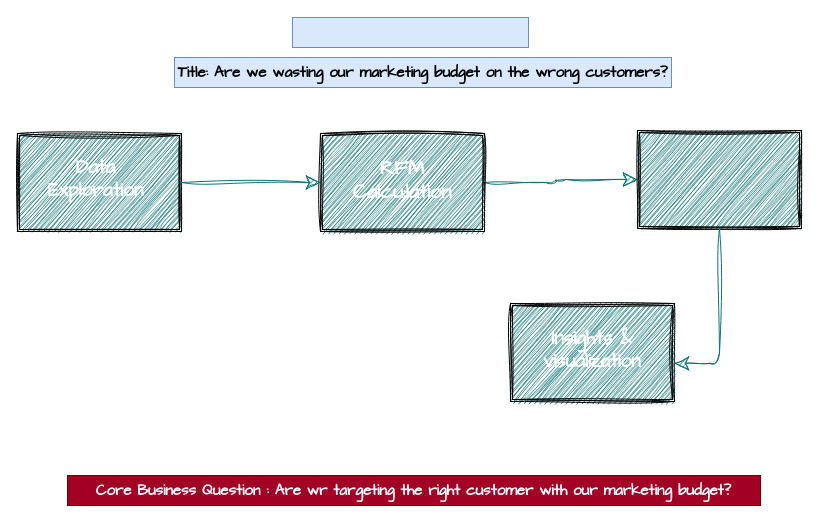
Image size: 819x523. Some labels were removed from this diagram. The centre of each missing label's shape, as x and y in pixels:
"Customer Segmentation" belongs at point (719, 179).
"Project Overview" belongs at point (410, 32).
